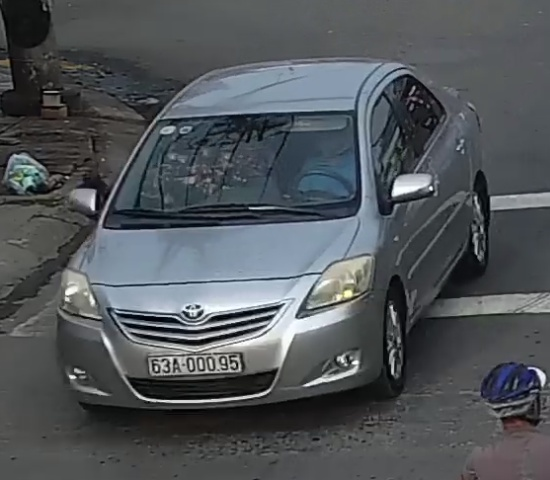vehicle plate: (148, 349, 245, 380)
